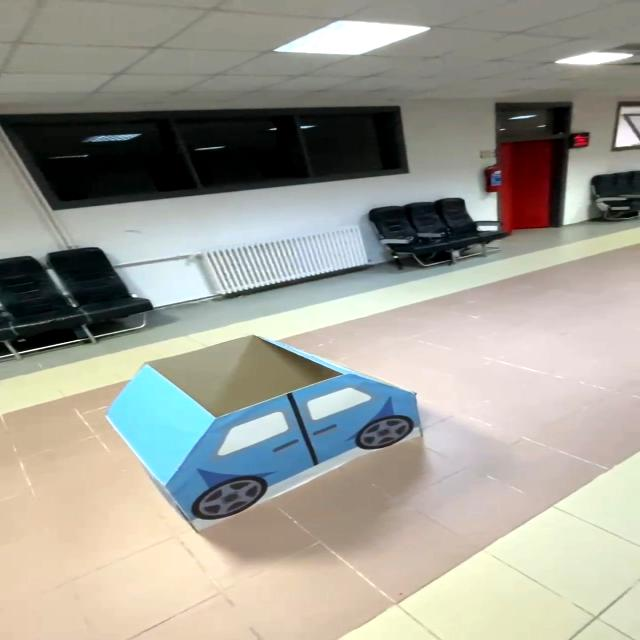blue_car: (100, 326, 459, 536)
